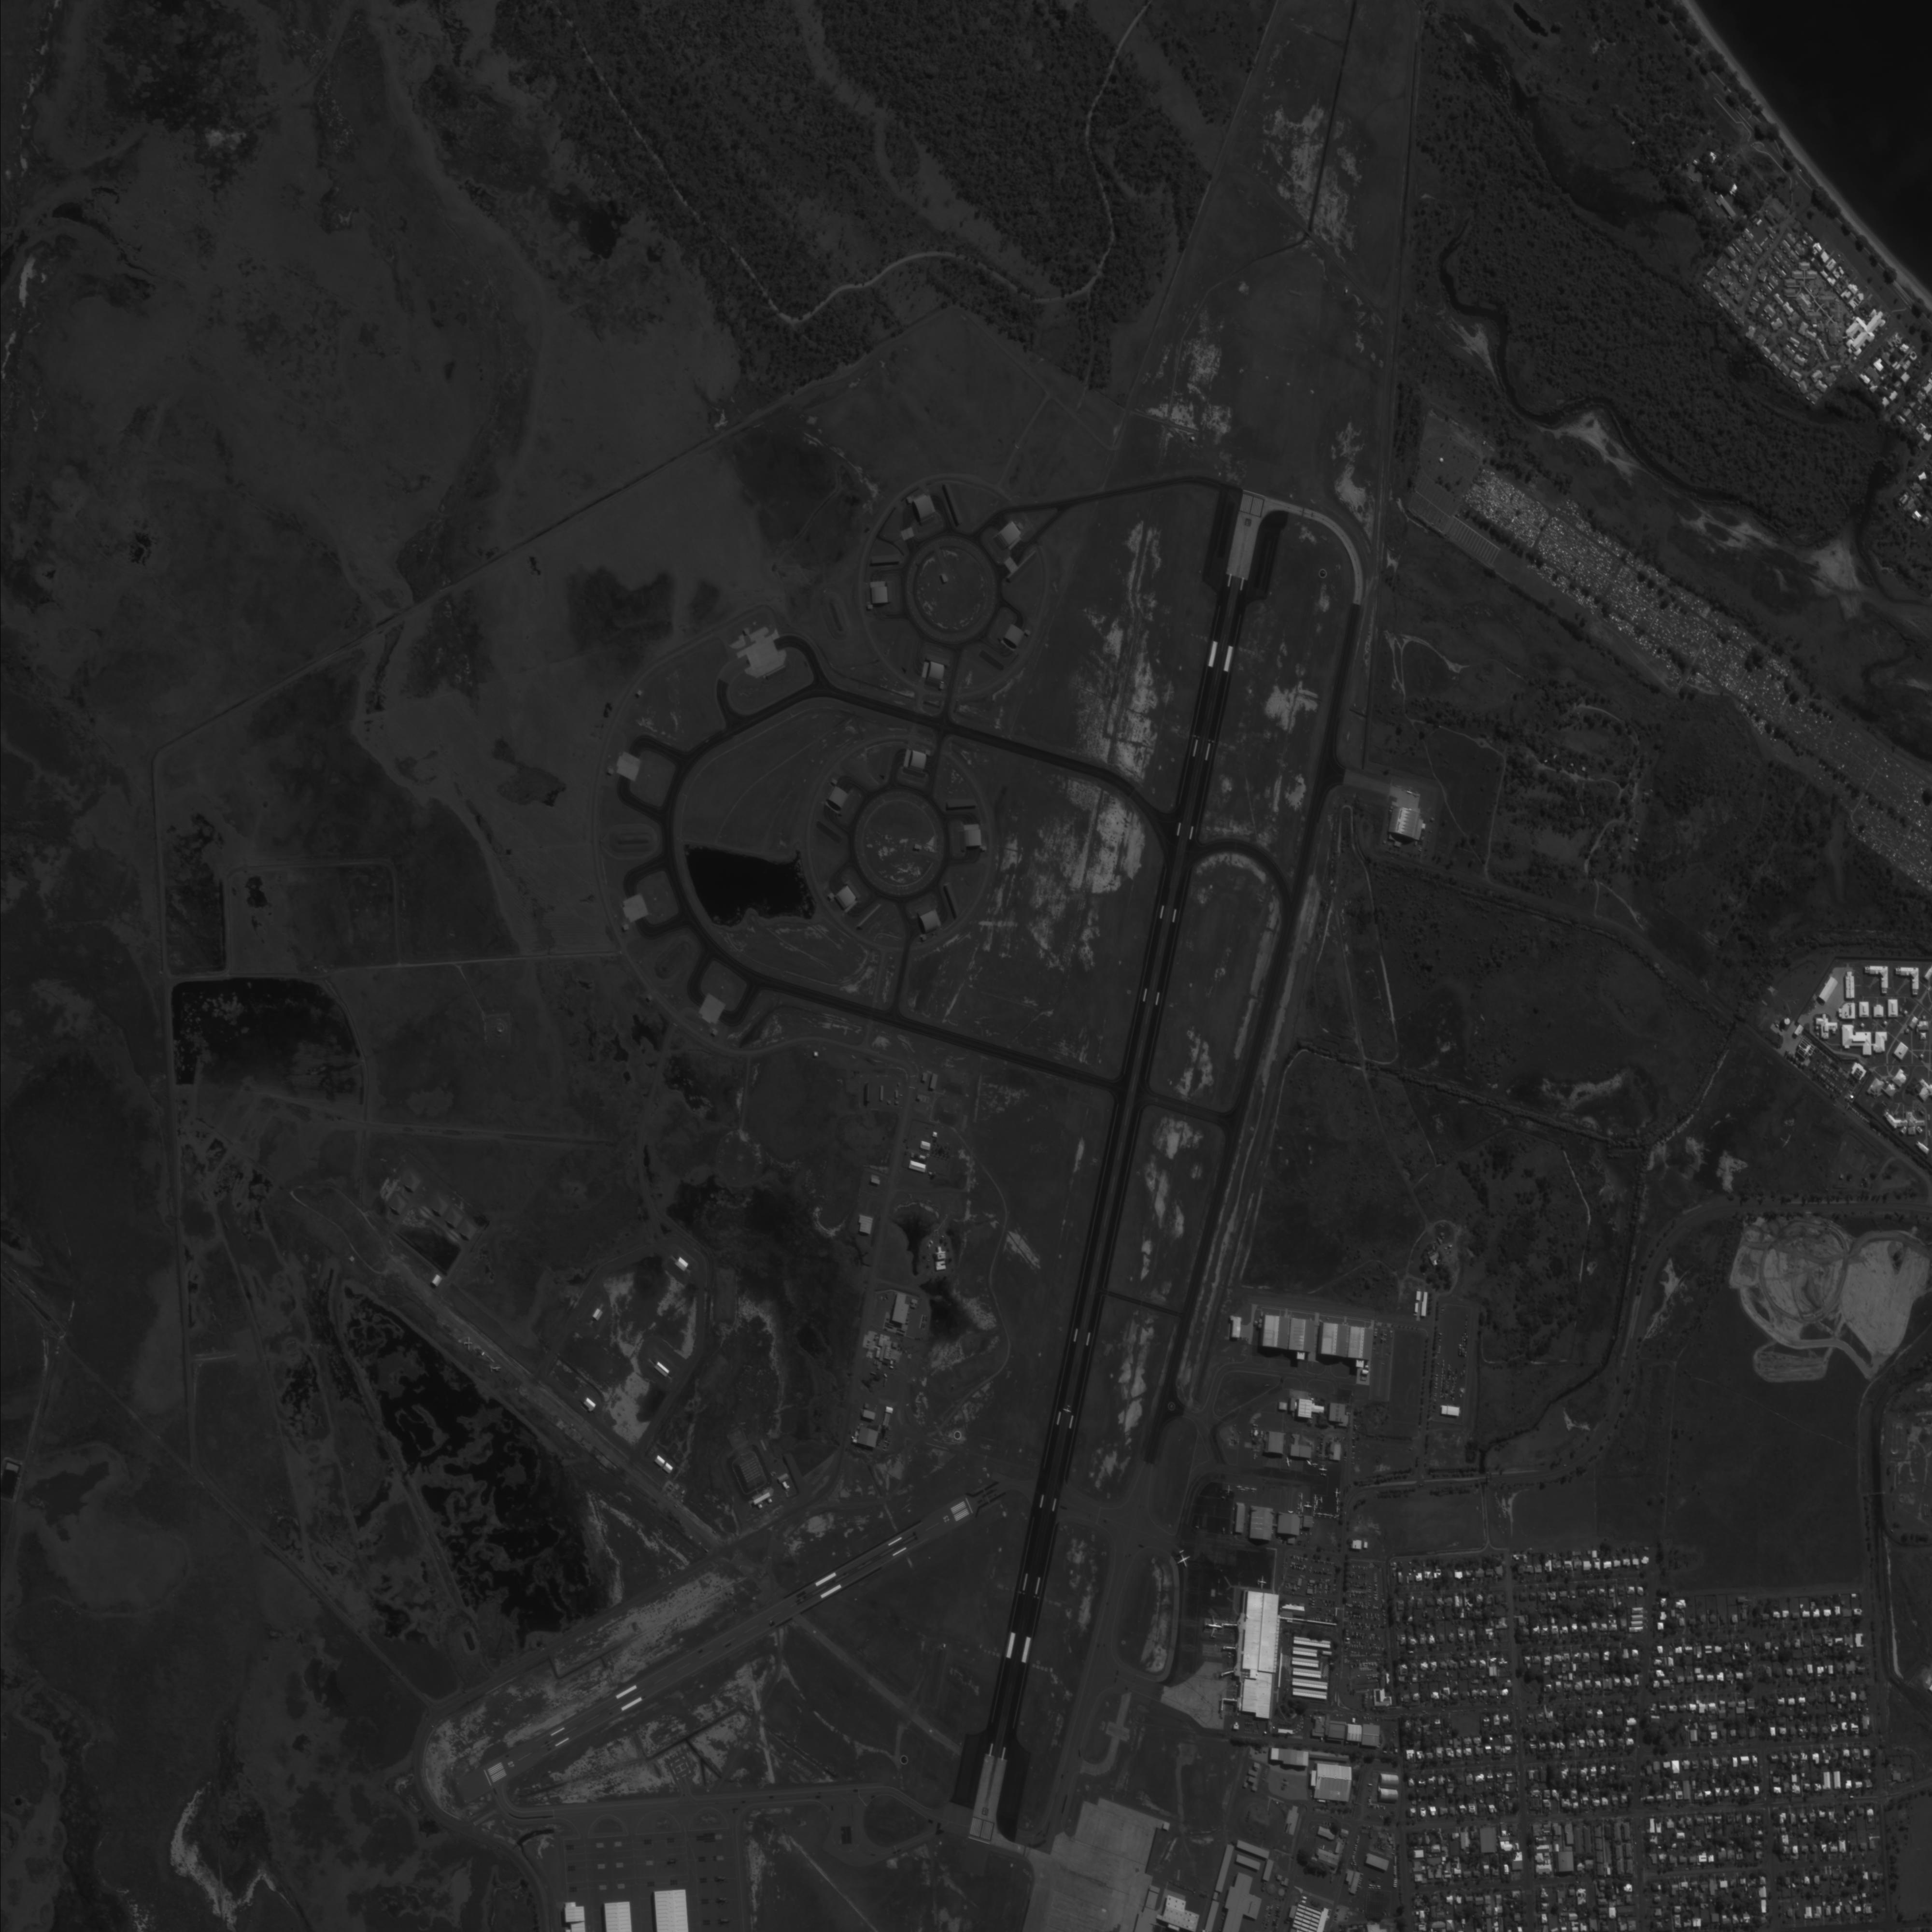plane: (1200, 1614, 1226, 1642), (1169, 1546, 1196, 1573), (1060, 1403, 1076, 1417), (1256, 1575, 1269, 1591), (462, 1336, 474, 1352), (1283, 1454, 1295, 1468), (1318, 1463, 1330, 1474), (1332, 1486, 1343, 1499), (1223, 1484, 1235, 1495), (1304, 1456, 1315, 1468), (1304, 1500, 1313, 1511), (1332, 1513, 1343, 1522), (1251, 1486, 1258, 1495), (1311, 1461, 1320, 1468), (1316, 1511, 1323, 1520), (1322, 1511, 1329, 1520), (1253, 1453, 1260, 1461), (1297, 1491, 1304, 1500), (1318, 1495, 1325, 1504), (1297, 1500, 1304, 1509), (1244, 1486, 1251, 1493), (1313, 1493, 1320, 1500), (1313, 1504, 1320, 1511), (1336, 1506, 1341, 1514), (1329, 1513, 1334, 1520), (1336, 1499, 1341, 1506), (1237, 1484, 1244, 1490), (1313, 1511, 1316, 1518)
